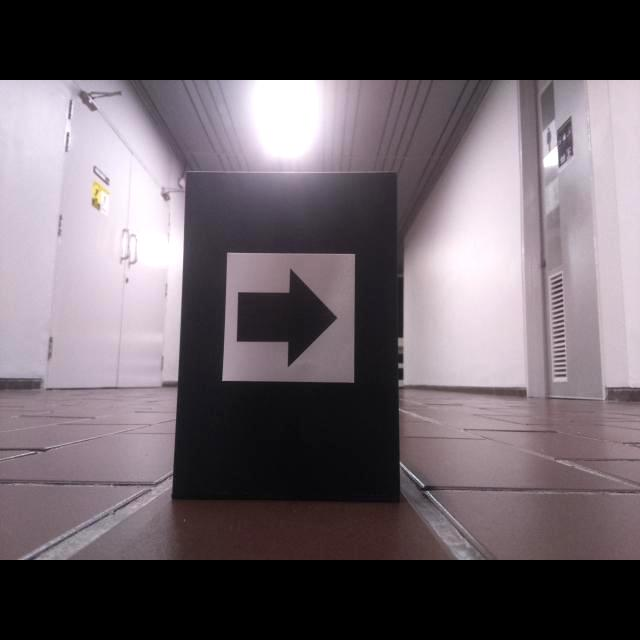RIGHT: (237, 269, 337, 369)
